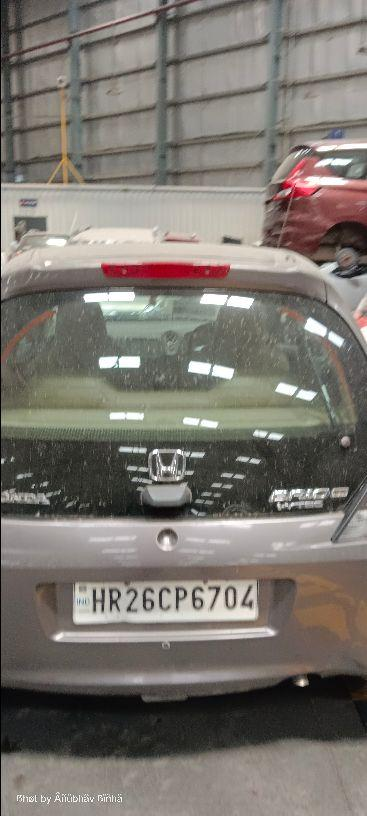license_plate: (70, 578, 260, 625)
